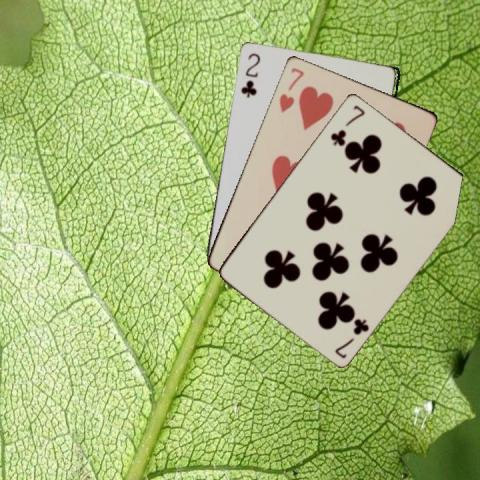2c: (237, 49, 262, 99)
7c: (327, 101, 366, 147), (331, 315, 371, 359)
7h: (276, 64, 305, 113)
